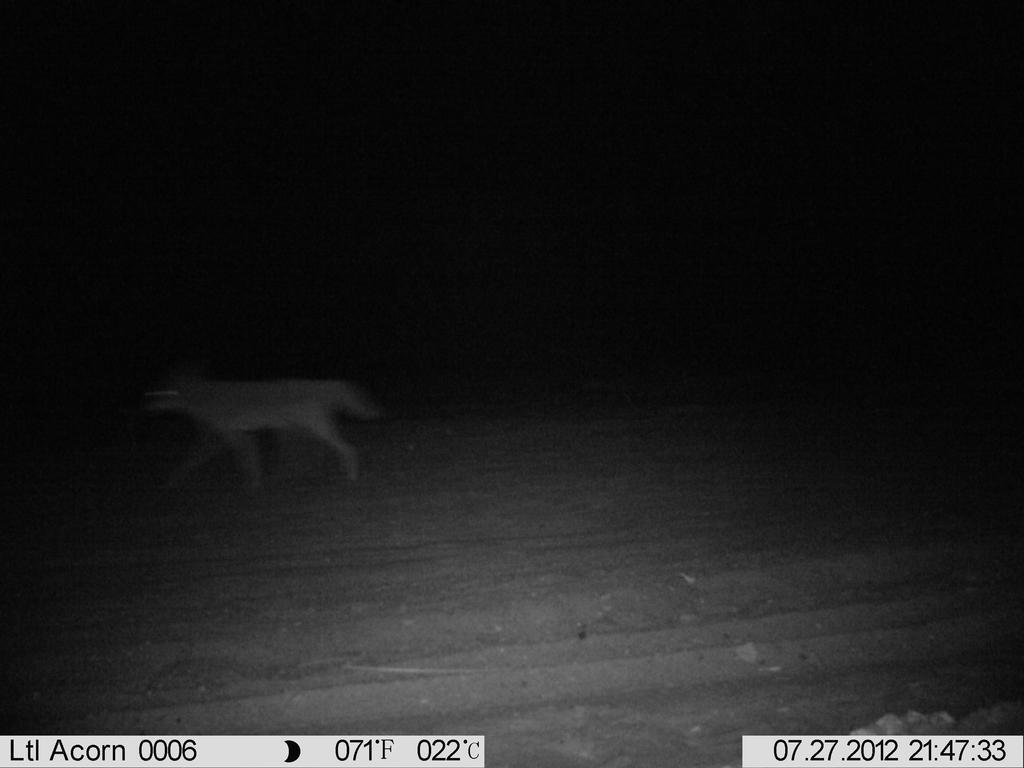coyote: (137, 359, 400, 501)
